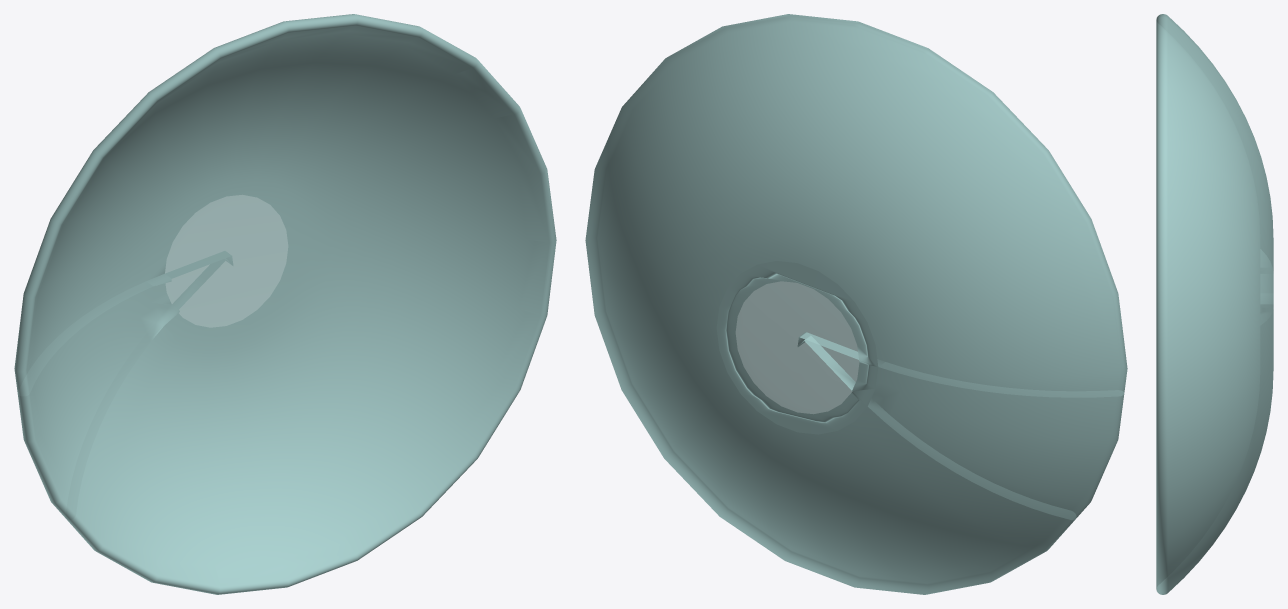
The model's file is original-14.obj.
3 renders of one model, left to right at view 1: azimuth 30°, elevation 25°; view 2: azimuth 150°, elevation 25°; view 3: azimuth 270°, elevation 25°, orthographic. The views are drawn at different scales.
Visible parts, largest first — view 1: Component_213_5/Component_213/mesh3/mesh3-geometry#mesh3-geometr; view 2: Component_213_5/Component_213/mesh3/mesh3-geometry#mesh3-geometr; view 3: Component_213_5/Component_213/mesh3/mesh3-geometry#mesh3-geometr.
Part boxes in pixels (x1,y1,x2,y2): Component_213_5/Component_213/mesh3/mesh3-geometry#mesh3-geometr: [14, 14, 556, 594]; Component_213_5/Component_213/mesh3/mesh3-geometry#mesh3-geometr: [585, 14, 1127, 594]; Component_213_5/Component_213/mesh3/mesh3-geometry#mesh3-geometr: [1156, 14, 1273, 594].
Size of the model in its own units: 0.3847 by 0.3847 by 0.0772.
